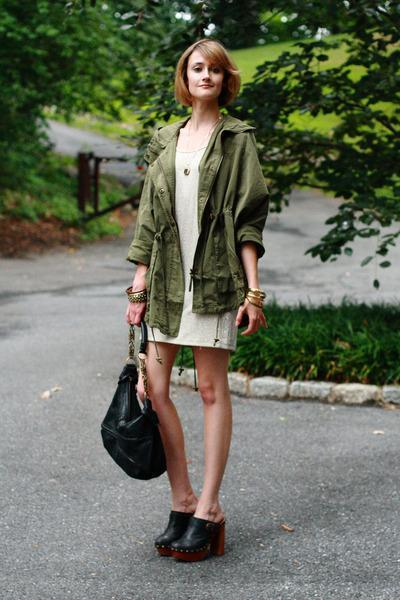bag: (101, 363, 166, 479)
dress: (156, 148, 251, 349)
jacket: (120, 116, 272, 337)
shoe: (155, 511, 225, 563)
